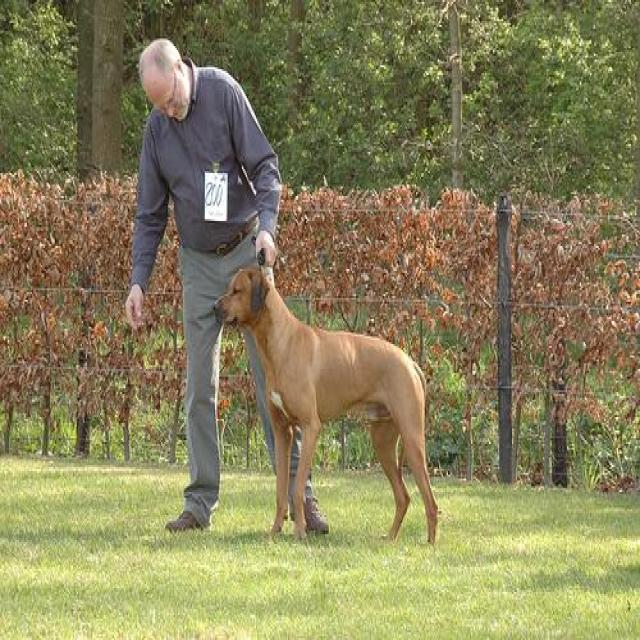rhodesian_ridgeback: (211, 263, 443, 552)
